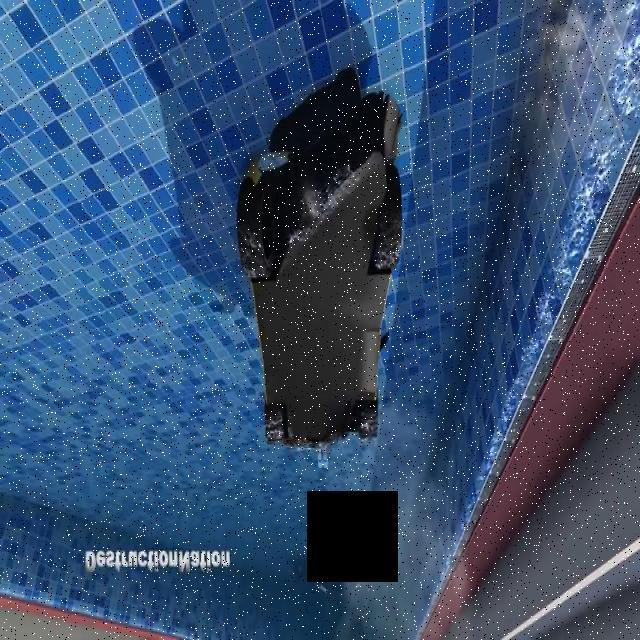severe: (233, 76, 406, 466)
